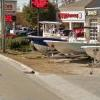Boat: (24, 18, 92, 62)
